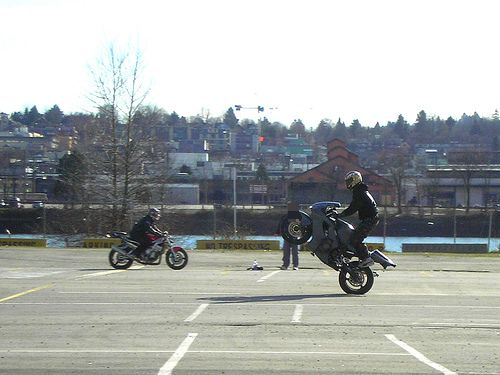bike: (277, 198, 397, 298), (102, 226, 187, 269)
